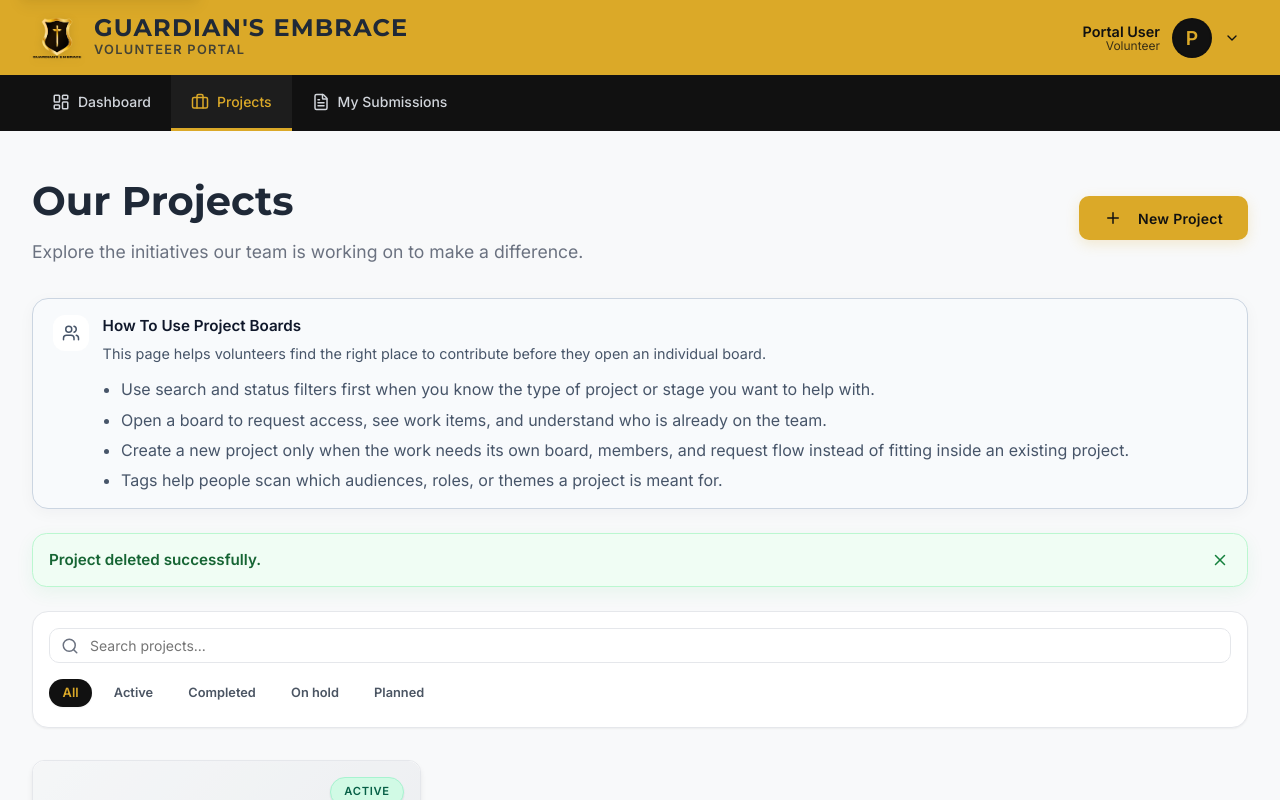
Test: ProjectsPage flash message › shows and dismisses the delete success banner from route state
expect the text "Project deleted successfully." is shown: met, box x1=49 y1=549 x2=261 y2=572
Click the button named "dismiss success message": [1220, 560] box x1=1208 y1=549 x2=1231 y2=572
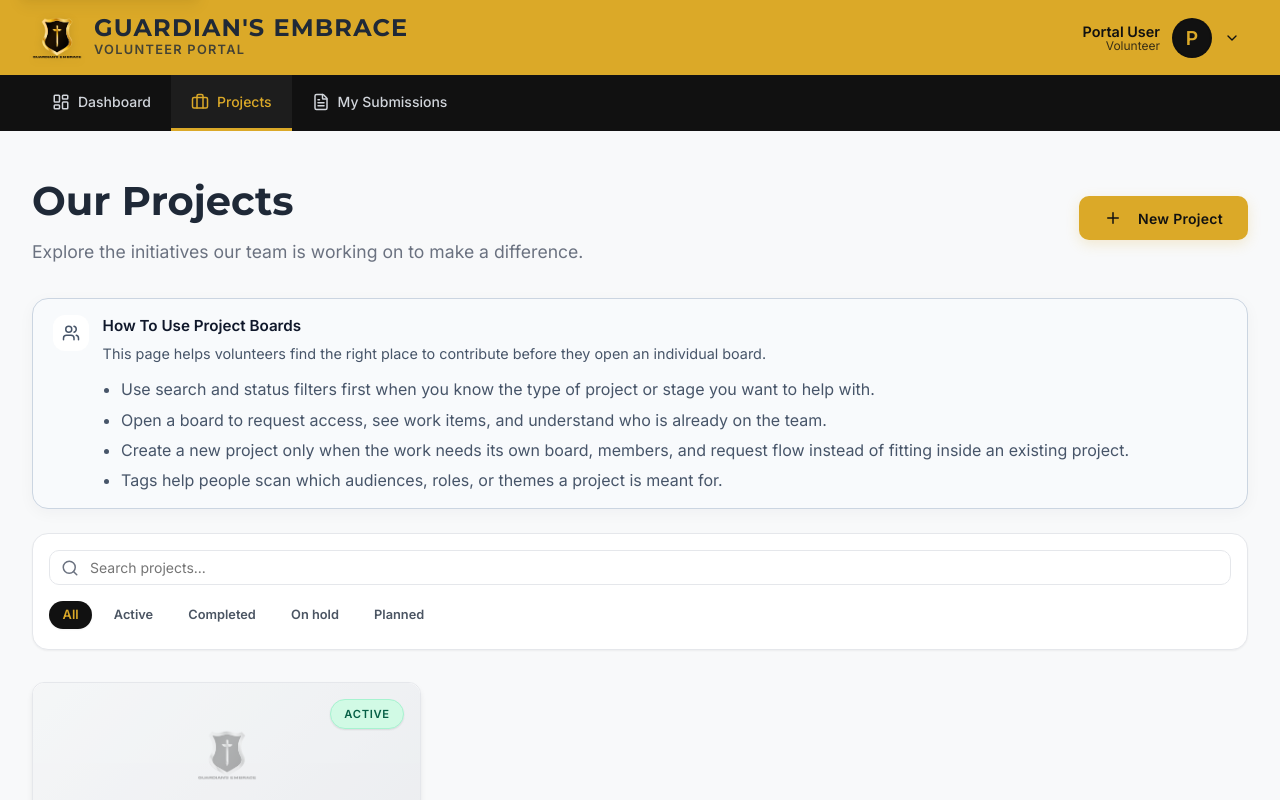
expect the text "Project deleted successfully." is gone: met
